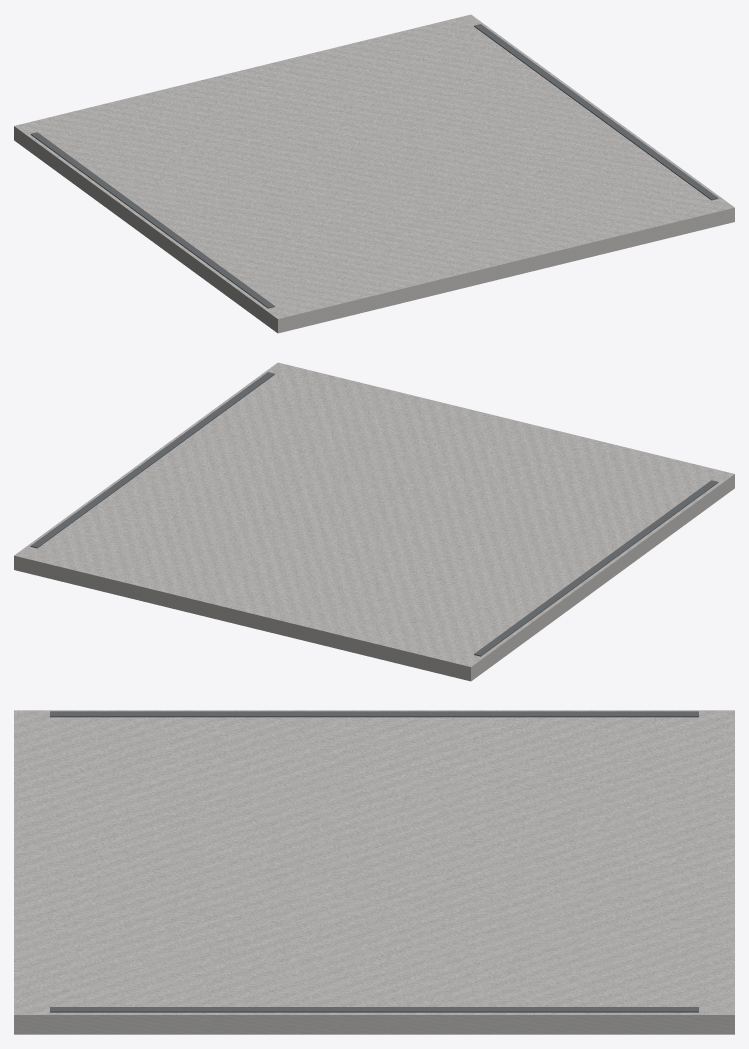
The model's file is woodworking-workshop-and-joinery-woodworking-workshop--f1f4014d__34234.glb.
3 renders of one model, top to bottom at view 1: azimuth 30°, elevation 25°; view 2: azimuth 150°, elevation 25°; view 3: azimuth 270°, elevation 25°, orthographic. The views are drawn at different scales.
Visible parts, largest first — view 1: woodworking-workshop-and-joinery-workshop-floor-tile; view 2: woodworking-workshop-and-joinery-workshop-floor-tile; view 3: woodworking-workshop-and-joinery-workshop-floor-tile.
Part boxes in pixels (x1=…): woodworking-workshop-and-joinery-workshop-floor-tile: x1=14, y1=14, x2=734, y2=333; woodworking-workshop-and-joinery-workshop-floor-tile: x1=14, y1=362, x2=734, y2=681; woodworking-workshop-and-joinery-workshop-floor-tile: x1=14, y1=710, x2=734, y2=1034.
Bounding box in the file's own units: 4 × 0.1281 × 4.
2 materials, 1 textured.
